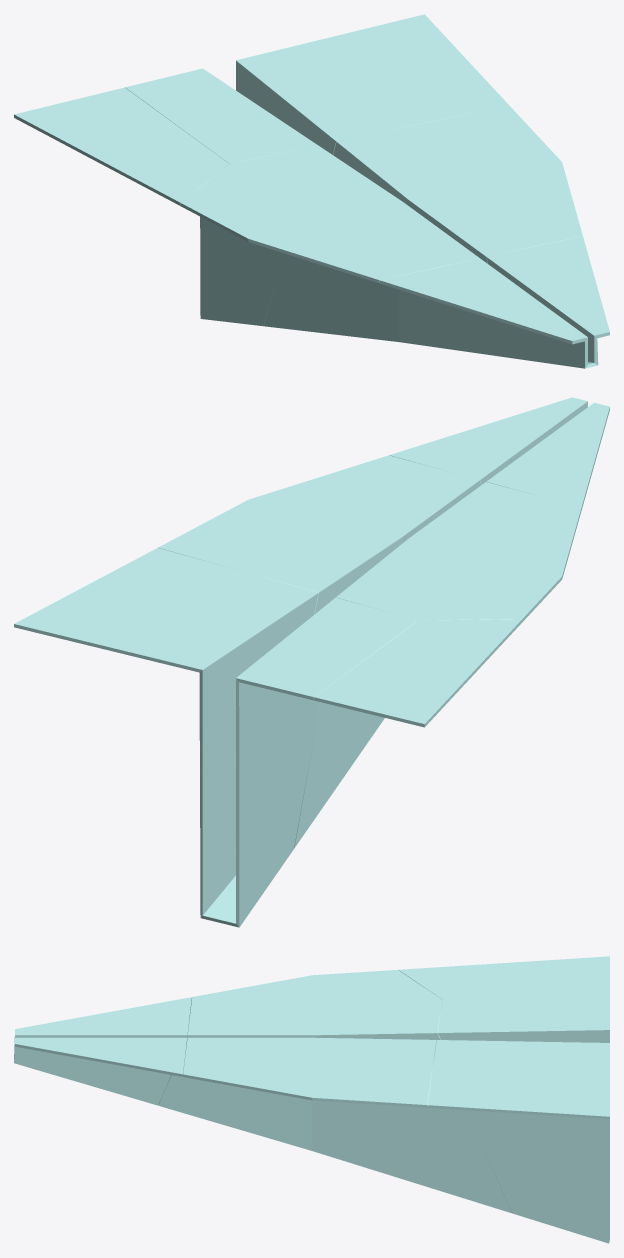
File: KiteBroken.fbx
3 renders of one model, top to bottom at view 1: azimuth 30°, elevation 25°; view 2: azimuth 150°, elevation 25°; view 3: azimuth 270°, elevation 25°, orthographic. The views are drawn at different scales.
Visible parts, largest first — view 1: Kite_cell.002, Kite_cell.001, Kite_cell, Kite_cell.003; view 2: Kite_cell.001, Kite_cell.002, Kite_cell, Kite_cell.003; view 3: Kite_cell.002, Kite_cell.001, Kite_cell, Kite_cell.003.
Boxes of the visible parts, x1=… form: Kite_cell.002: x1=180, y1=105, x2=582, y2=355; Kite_cell.001: x1=125, y1=14, x2=508, y2=326; Kite_cell: x1=379, y1=236, x2=609, y2=368; Kite_cell.003: x1=14, y1=87, x2=228, y2=205; Kite_cell.001: x1=14, y1=548, x2=417, y2=927; Kite_cell.002: x1=158, y1=455, x2=581, y2=848; Kite_cell: x1=389, y1=397, x2=609, y2=509; Kite_cell.003: x1=314, y1=619, x2=522, y2=727; Kite_cell.002: x1=158, y1=969, x2=512, y2=1213; Kite_cell.001: x1=427, y1=999, x2=609, y2=1243; Kite_cell: x1=14, y1=997, x2=191, y2=1105; Kite_cell.003: x1=398, y1=956, x2=609, y2=999.
Size of the model in its own units: 200 by 116 by 314.
